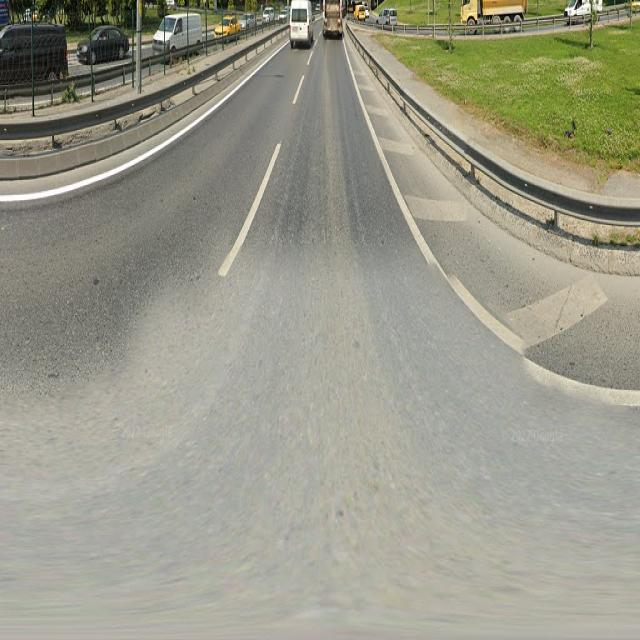Pedestrian crosswalk: (342, 38, 440, 273)
Road: (125, 45, 548, 606), (11, 53, 299, 431)
